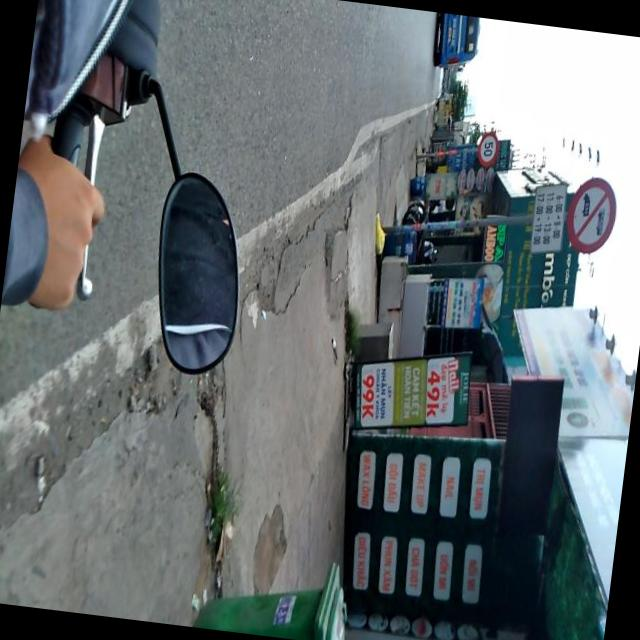P-127: (474, 131, 502, 167)
